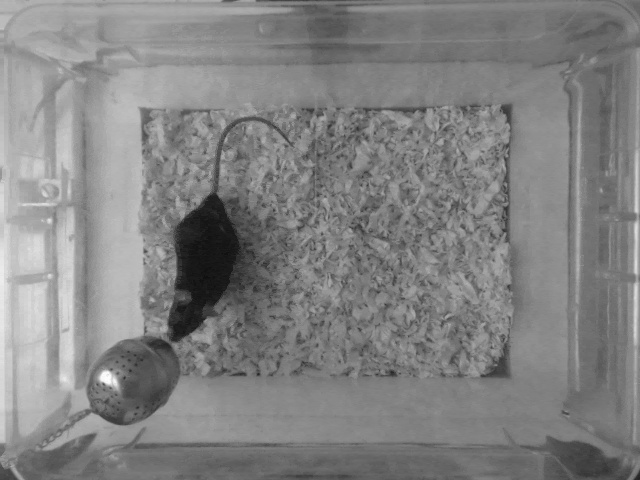mice: (165, 120, 293, 343)
